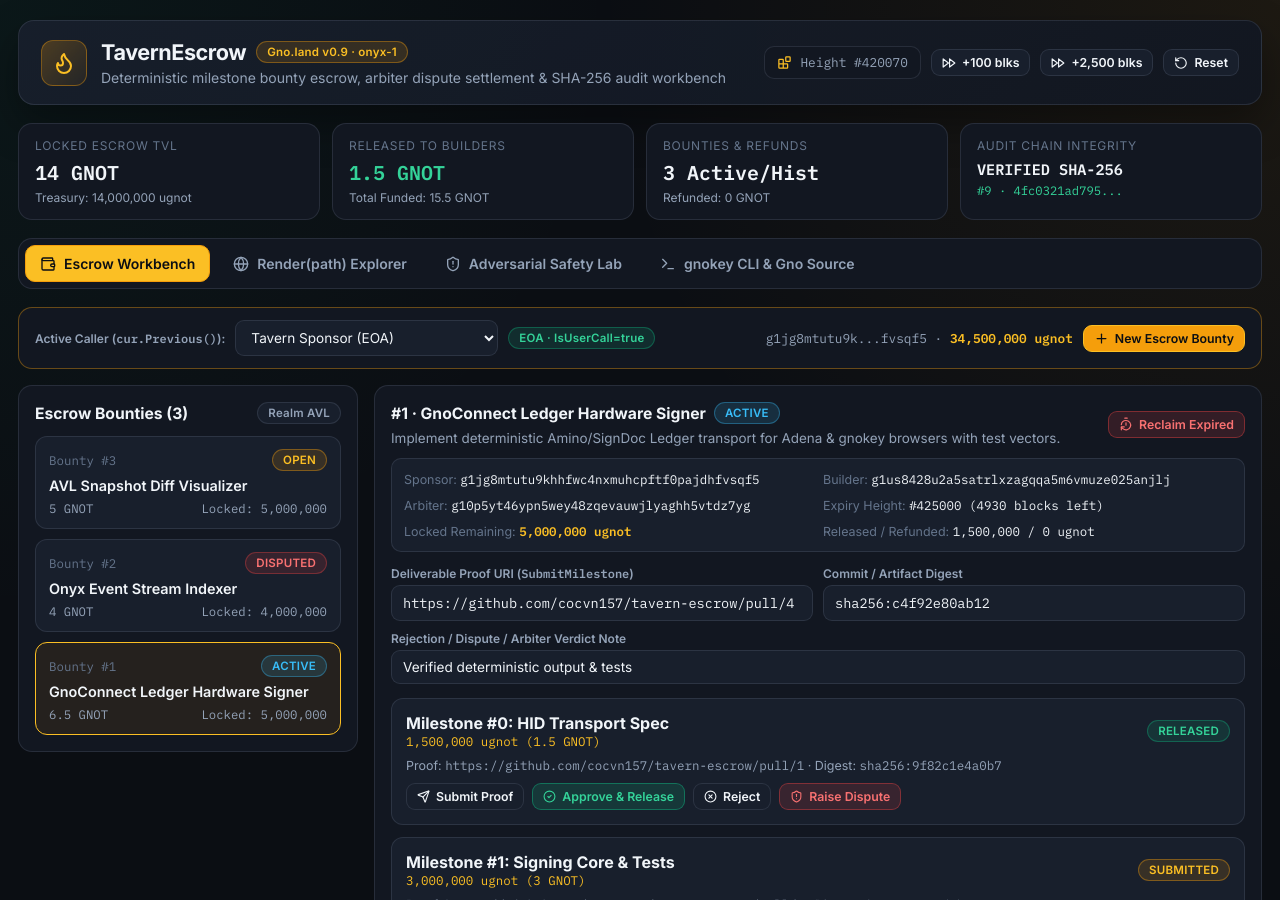
Scenario: TavernEscrow Interactive Console UI › allows Sponsor to fund a new 4th bounty via the CreateBounty form
Click the button "New Escrow Bounty".
click(1164, 338)  # box [1083,324,1245,352]
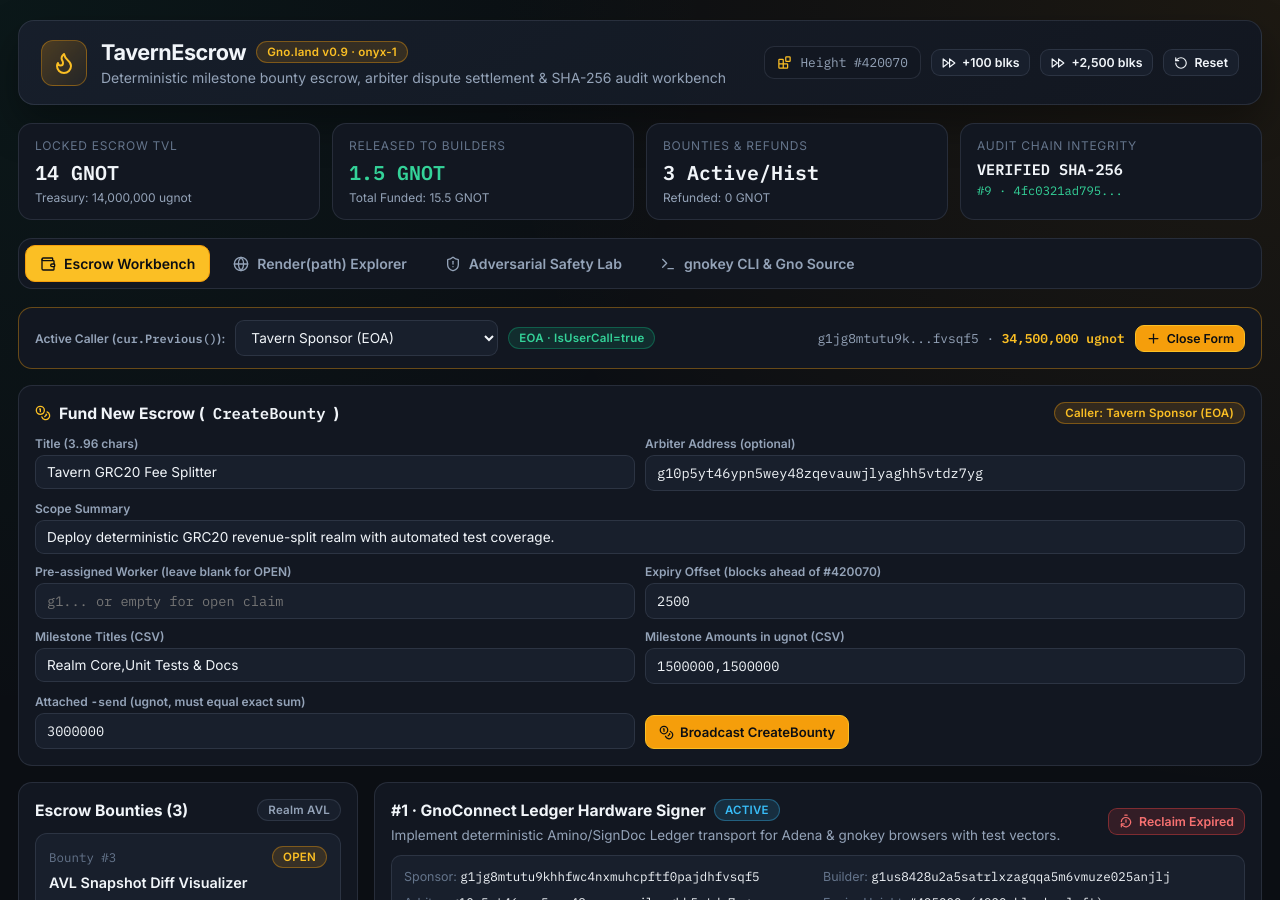
Click the button "Broadcast CreateBounty".
click(747, 732)  # box [645,715,849,749]
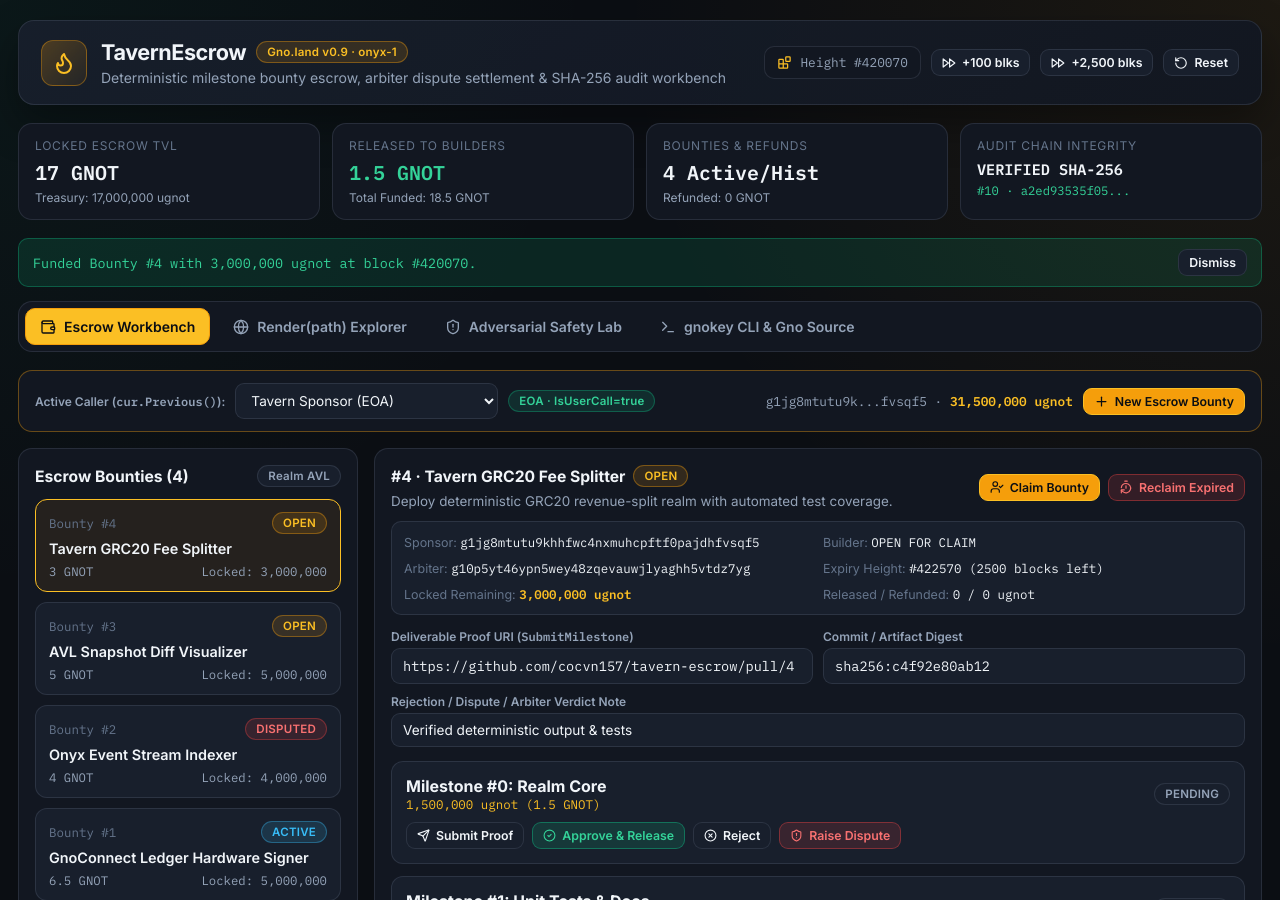
Now the message shows "Funded Bounty #4", box [33,254,476,272]
Now the heading "Escrow Bounties (4)" is shown, box [35,466,189,486]
